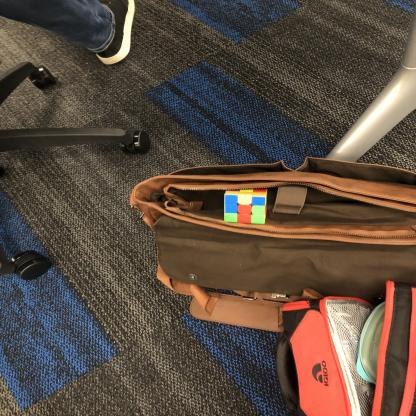UnsolvedCube: (225, 188, 268, 225)
